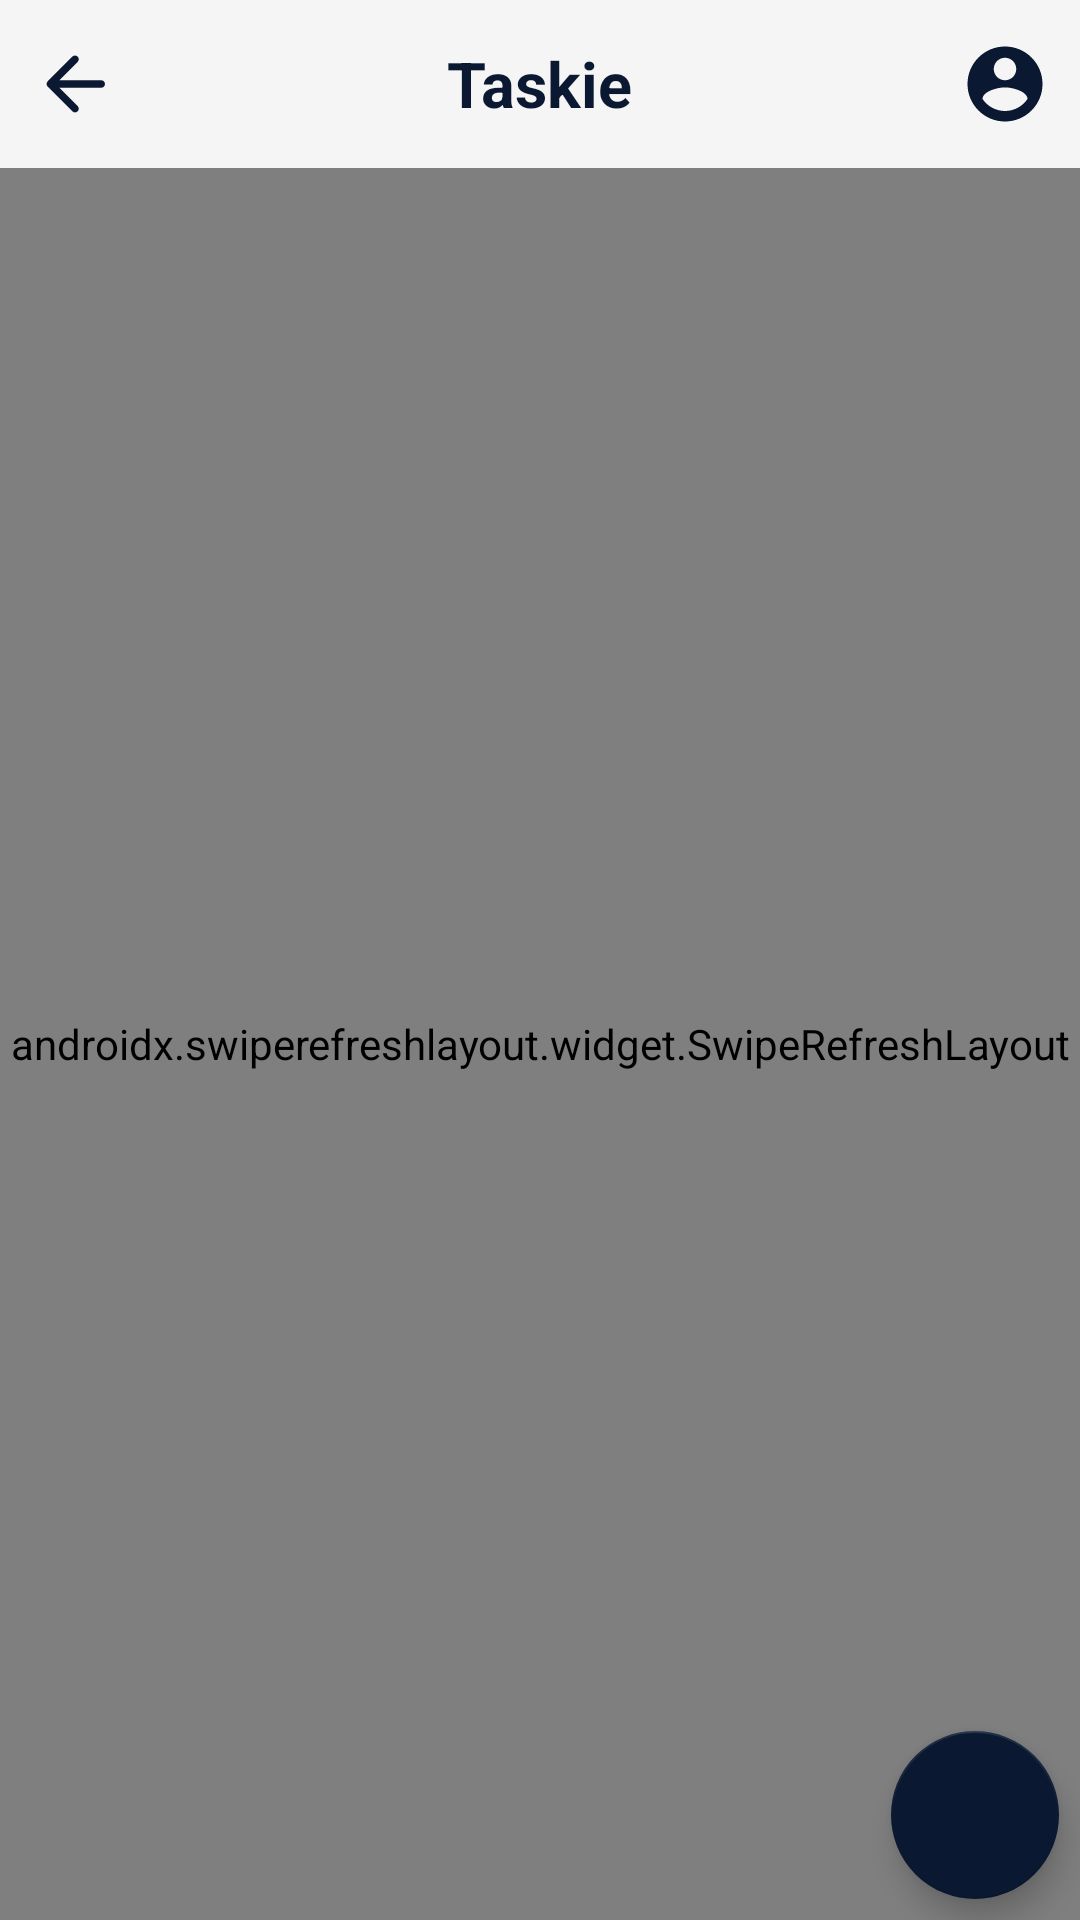

Where icons sit on this 1080*1920 app screen, as {"left": x1, "top": y1, "right": x2, "bottom": y2}:
account circle: {"left": 967, "top": 46, "right": 1043, "bottom": 122}
arrow back: {"left": 46, "top": 55, "right": 105, "bottom": 113}
